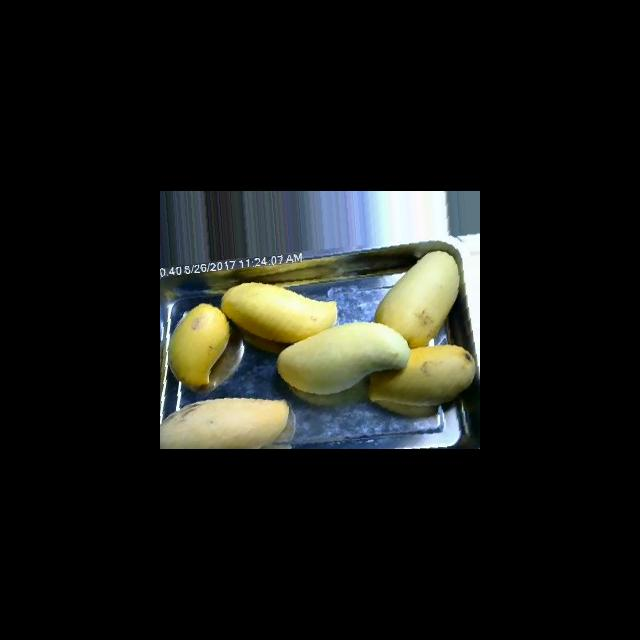mango: (276, 321, 410, 395), (374, 249, 460, 347), (367, 343, 476, 417), (220, 281, 337, 343), (160, 396, 291, 448), (167, 302, 230, 389)
